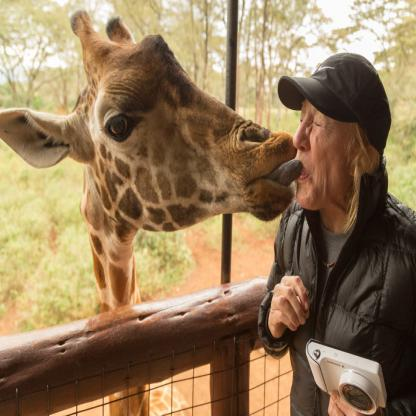Camera: (304, 345, 390, 416)
